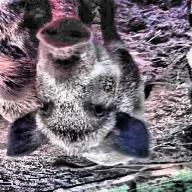boar: (0, 13, 145, 175)
